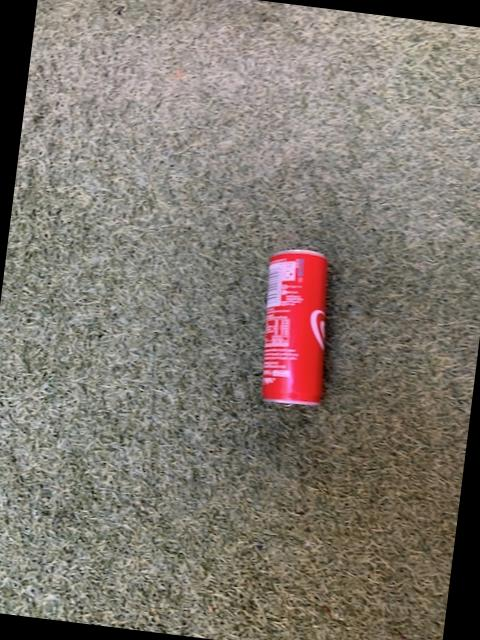metal: (264, 248, 329, 403)
